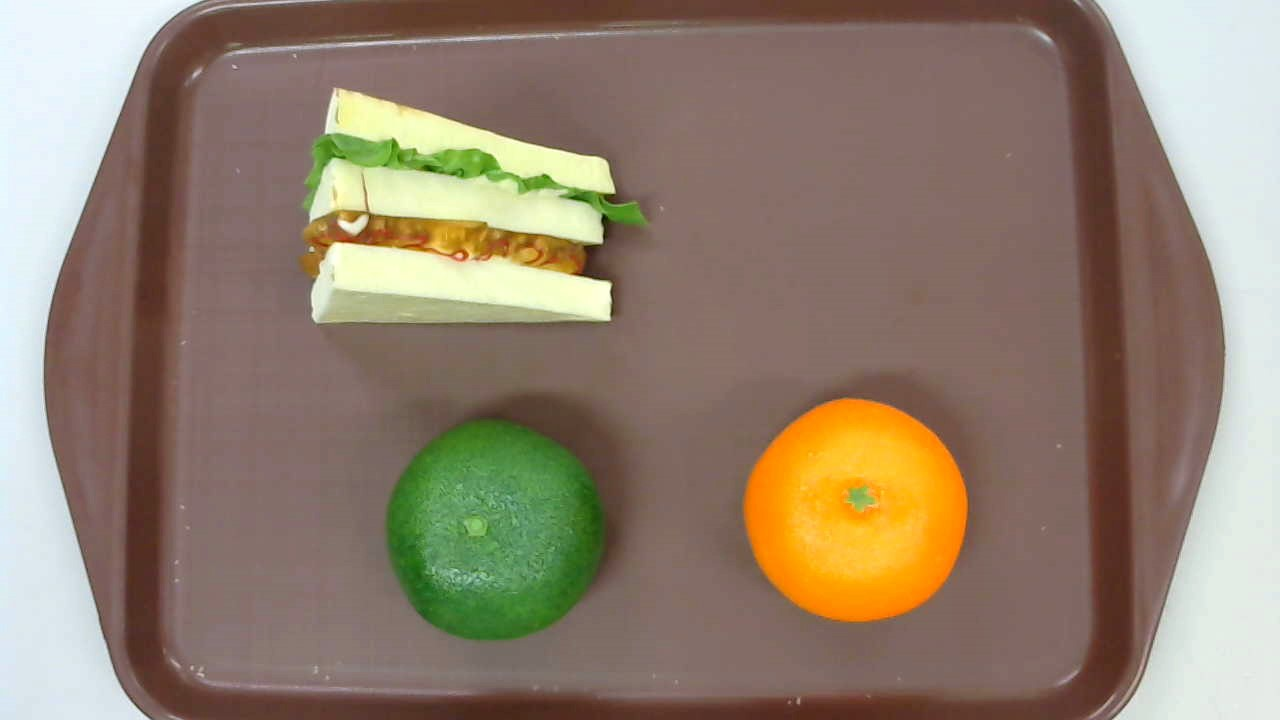green orange: (386, 417, 607, 639)
orange: (741, 397, 970, 620)
sandwich: (299, 84, 654, 334)
